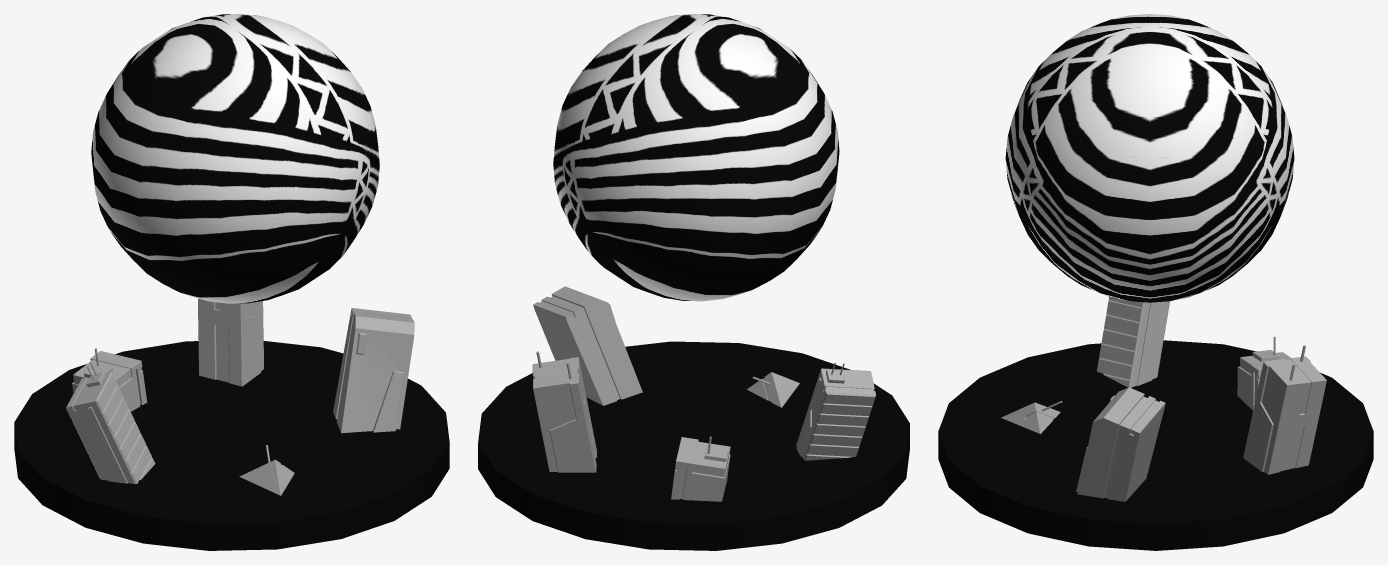
The model's file is maya2sketchfab.fbx.
The picture shows the model from 3 angles, left to right: view 1: azimuth 30°, elevation 25°; view 2: azimuth 150°, elevation 25°; view 3: azimuth 270°, elevation 25°; orthographic projection.
Parts seen in each view (by area): view 1: pSphere1, pCylinder8, pCube7, pCube6, pCube2, pCylinder7, pCube4; view 2: pSphere1, pCylinder8, pCube7, pCube2, pCube6, pCylinder7, pCube4; view 3: pSphere1, pCylinder8, pCube2, pCube7, pCube6, pCylinder7, pCube4.
Part boxes in pixels (x1,y1,x2,y2): pSphere1: [91, 14, 379, 303]; pCylinder8: [14, 341, 449, 550]; pCube7: [333, 308, 414, 433]; pCube6: [66, 361, 155, 483]; pCube2: [198, 298, 263, 386]; pCylinder7: [72, 348, 147, 411]; pCube4: [239, 445, 294, 495]; pSphere1: [553, 14, 839, 301]; pCylinder8: [478, 341, 909, 550]; pCube7: [533, 286, 642, 405]; pCube2: [532, 351, 597, 472]; pCube6: [796, 362, 875, 460]; pCylinder7: [671, 436, 730, 501]; pCube4: [747, 372, 799, 407]; pSphere1: [1005, 14, 1294, 302]; pCylinder8: [938, 340, 1373, 550]; pCube2: [1243, 345, 1326, 474]; pCube7: [1076, 387, 1165, 501]; pCube6: [1097, 296, 1169, 387]; pCylinder7: [1237, 336, 1290, 410]; pCube4: [1001, 401, 1062, 433].
Bounding box in the file's own units: 8.52 × 9.32 × 8.52.
Materials: 3 (1 with a texture image).
